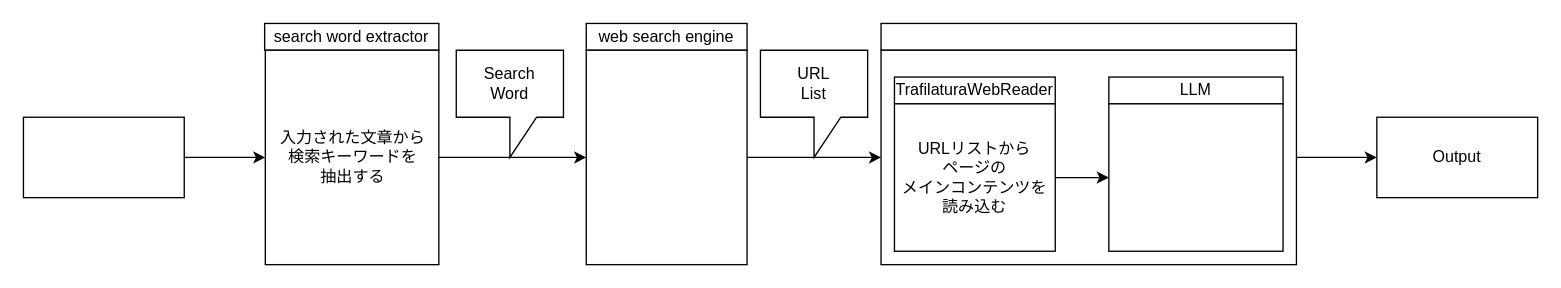
The diagram is 1561 pixels wide and 288 high, and some of its shapes have lost their labels. Each missing label, with the centre of its shape:
"Input" belongs at point 103,157.
"LlamaIndex" belongs at point 1088,36.
"キーワードを元に、 検索を行い 検索結果の URLリストを 取得する" belongs at point 666,157.
"メインコンテンツから input(質問)に対する 答えを生成する" belongs at point 1195,177.
